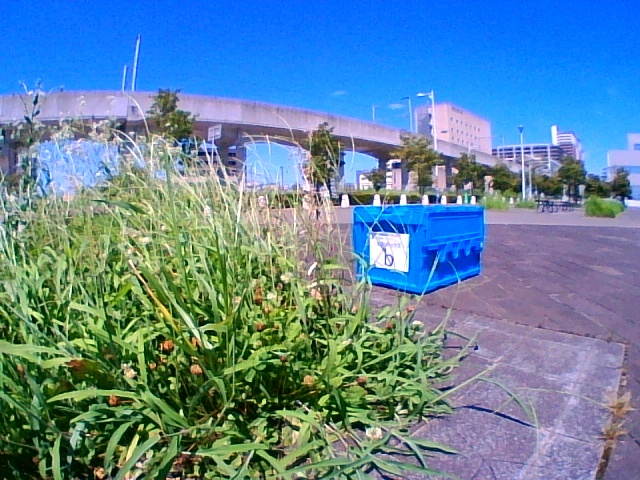blue_box: (356, 206, 479, 275)
tag_b: (371, 233, 408, 267)
